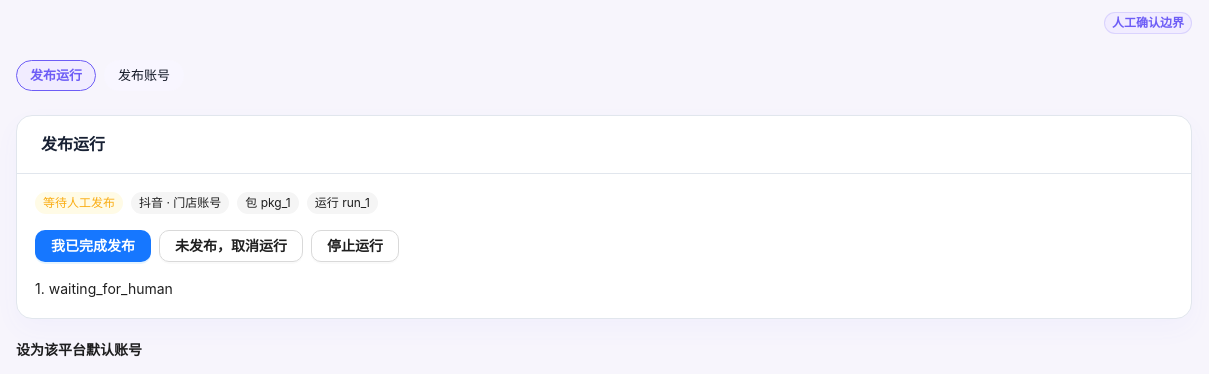
Scenario: PublishCenterView › records the human publish outcome without clicking a platform button
Click the button "我已完成发布" at [93, 246], box [35,230,151,262]
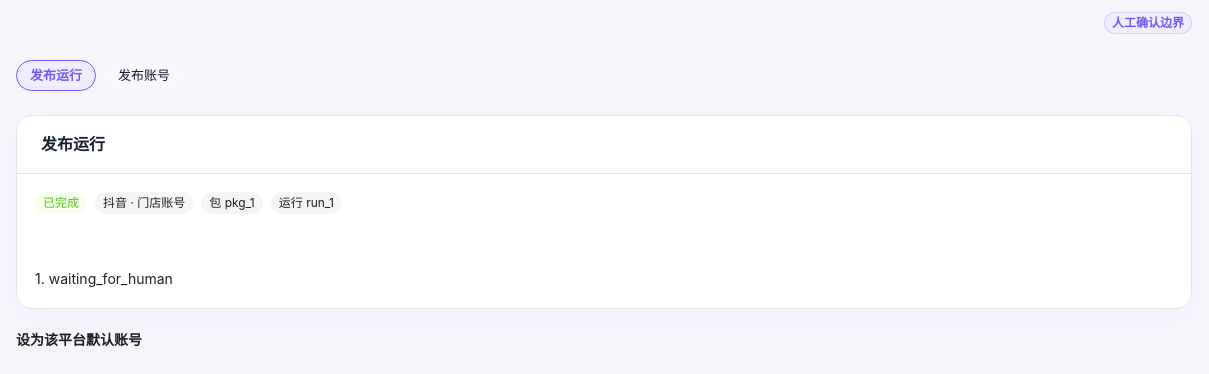
Expected: the text "已完成" is shown, [35,192,87,214]
